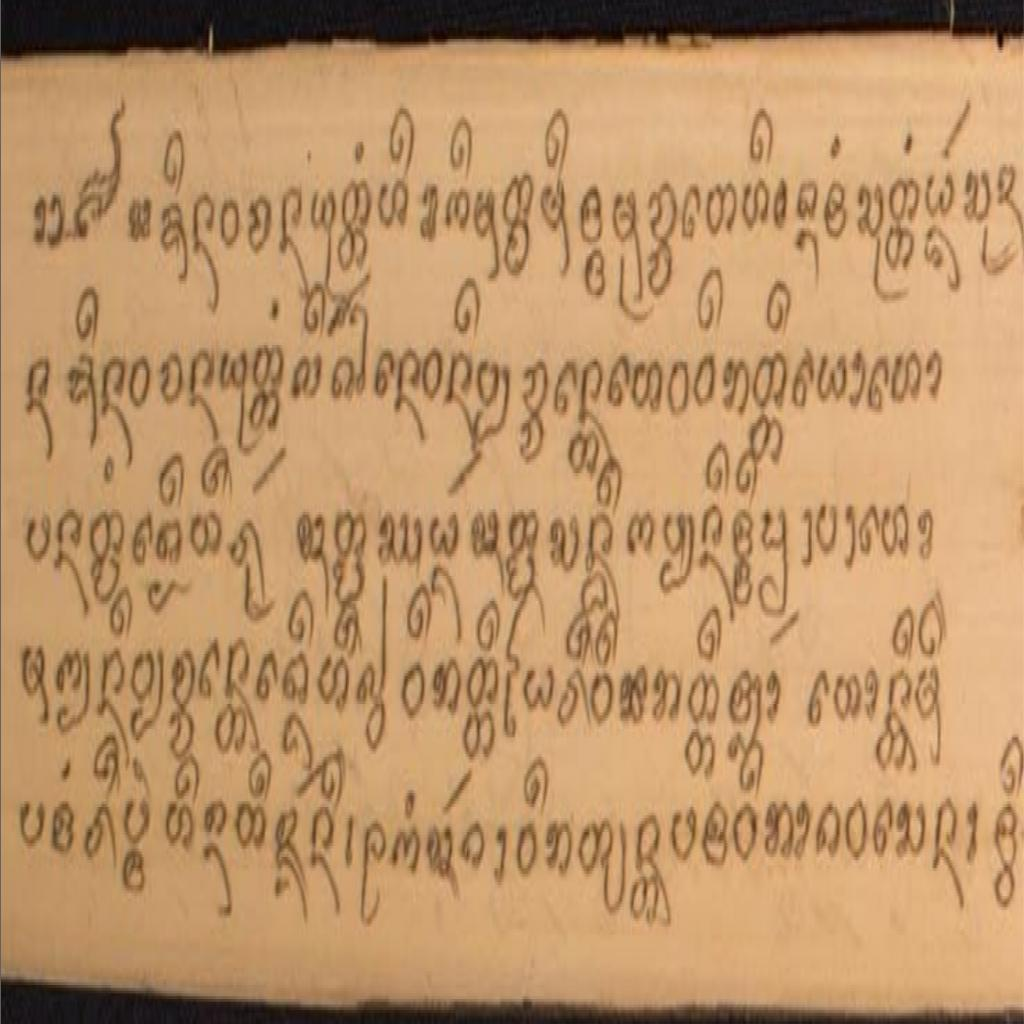LN007: (857, 180, 886, 241)
LN039: (376, 175, 412, 237)
